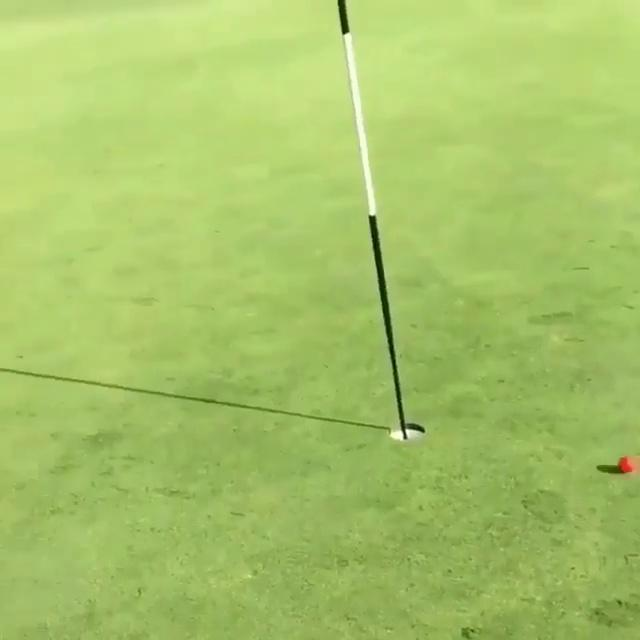golf ball: (617, 454, 640, 475)
